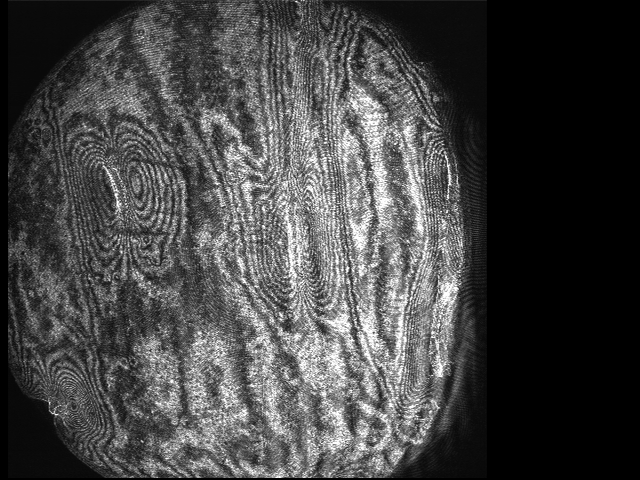plume: (66, 118, 177, 252)
